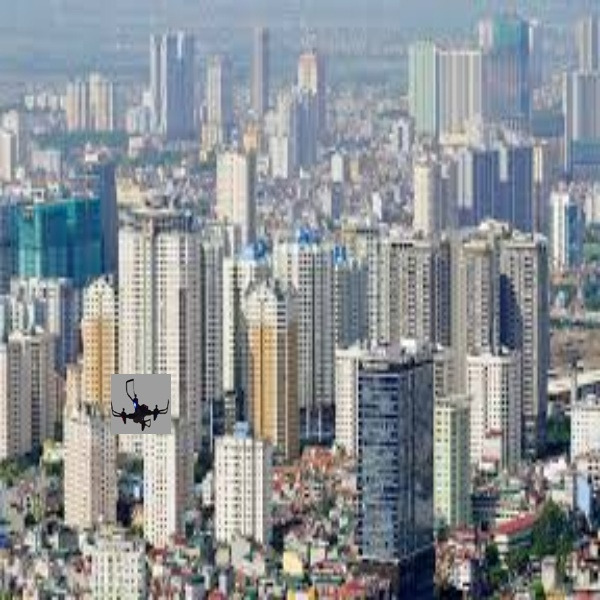drone: (110, 374, 170, 434)
